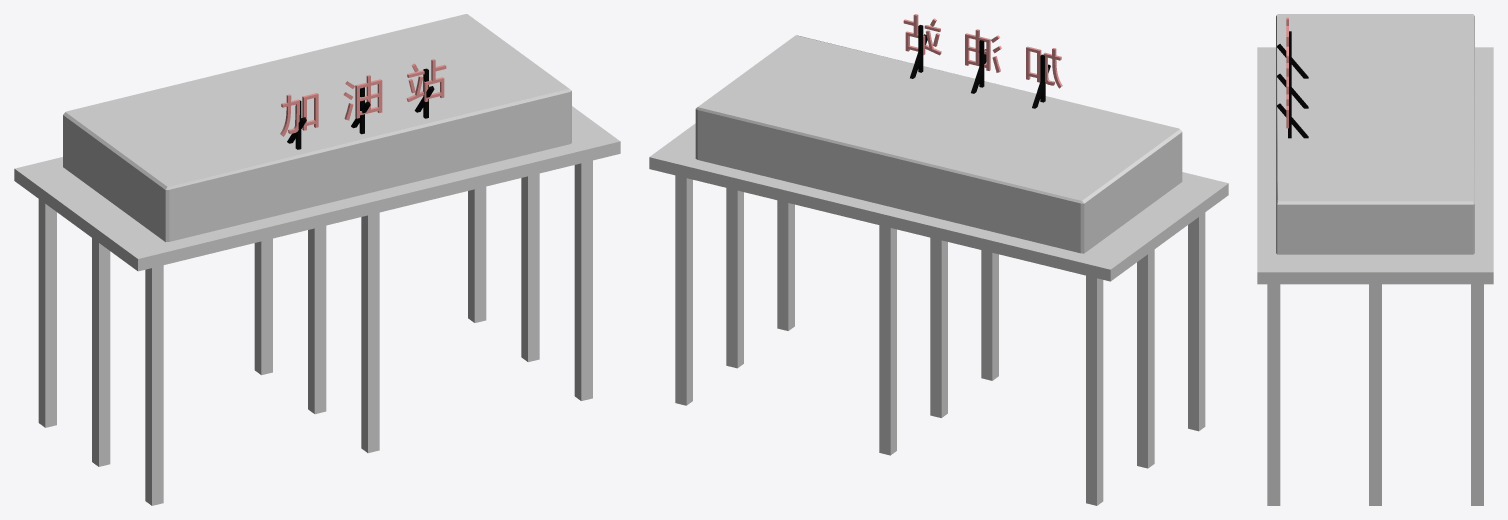
The model's file is jiayoudian.gltf.
3 views of the same model, side by side, from view 1: azimuth 30°, elevation 25°; view 2: azimuth 150°, elevation 25°; view 3: azimuth 270°, elevation 25° (orthographic). The views are drawn at different scales.
Visible parts, largest first — view 1: jiayouzhan; view 2: jiayouzhan; view 3: jiayouzhan.
Part boxes in pixels (x1,y1,x2,y2): jiayouzhan: (14,14,620,505); jiayouzhan: (649,14,1228,505); jiayouzhan: (1257,14,1493,505).
Size of the model in its own units: 1874 by 1364 by 831.
